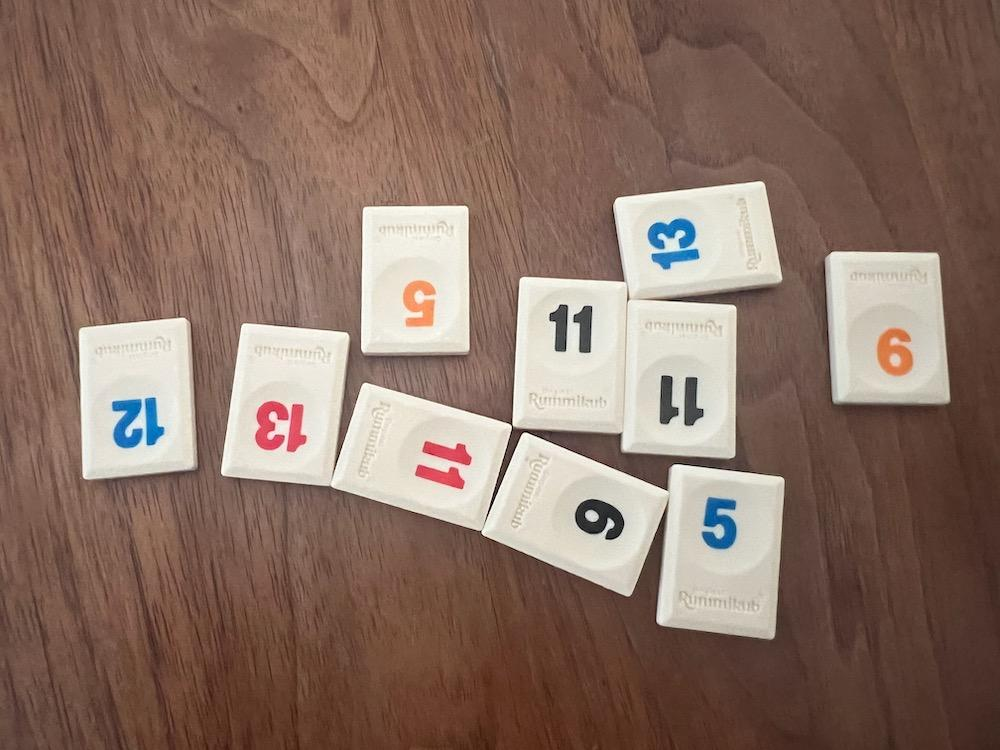black_11: (621, 301, 736, 459), (514, 277, 627, 434)
black_6: (483, 434, 668, 596)
blue_12: (80, 318, 196, 479)
blue_13: (613, 182, 781, 299)
blue_5: (656, 465, 783, 639)
orange_5: (361, 205, 469, 355)
orange_9: (826, 252, 951, 404)
red_11: (332, 383, 512, 531)
red_13: (221, 324, 350, 486)
